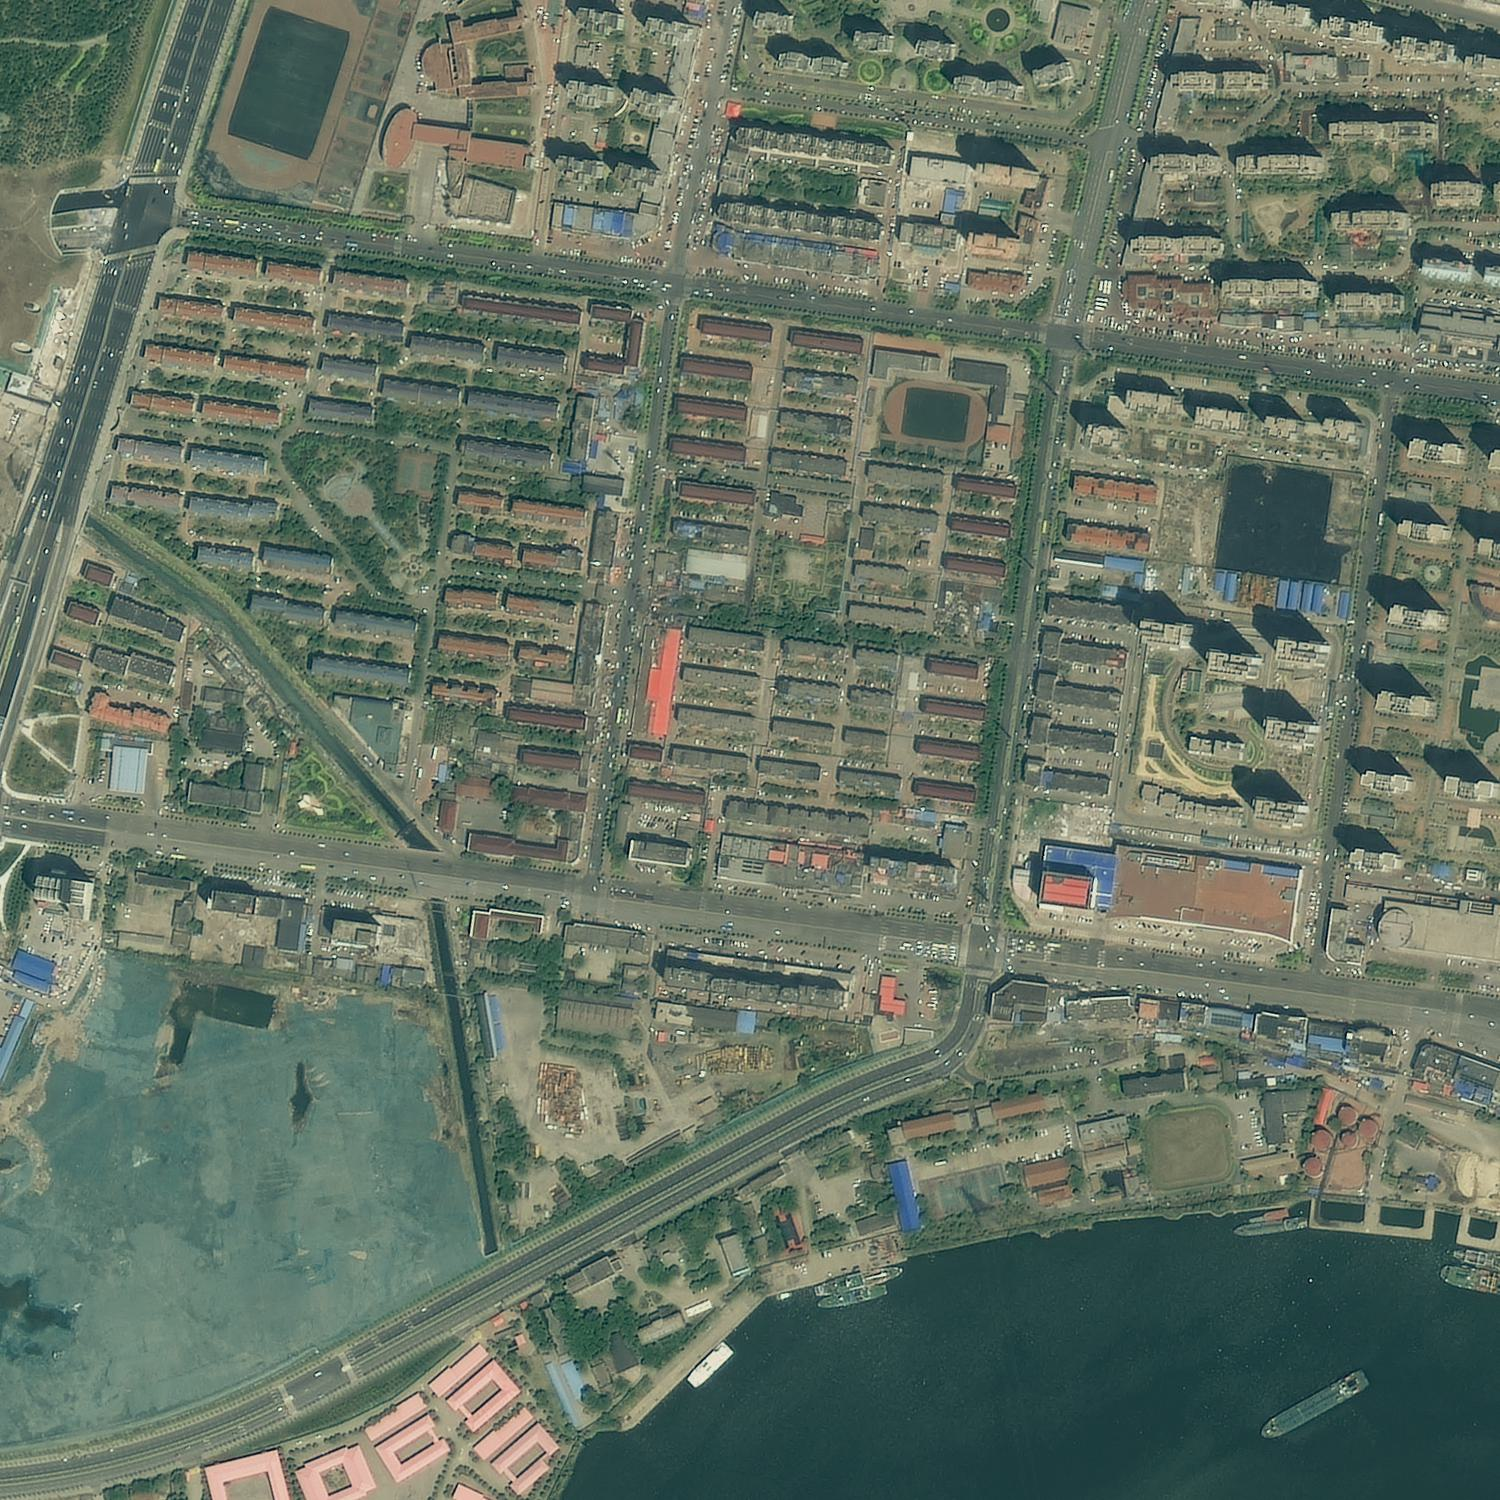A3: (140, 173, 256, 273), (376, 512, 495, 610), (459, 622, 572, 724), (70, 60, 177, 160)
